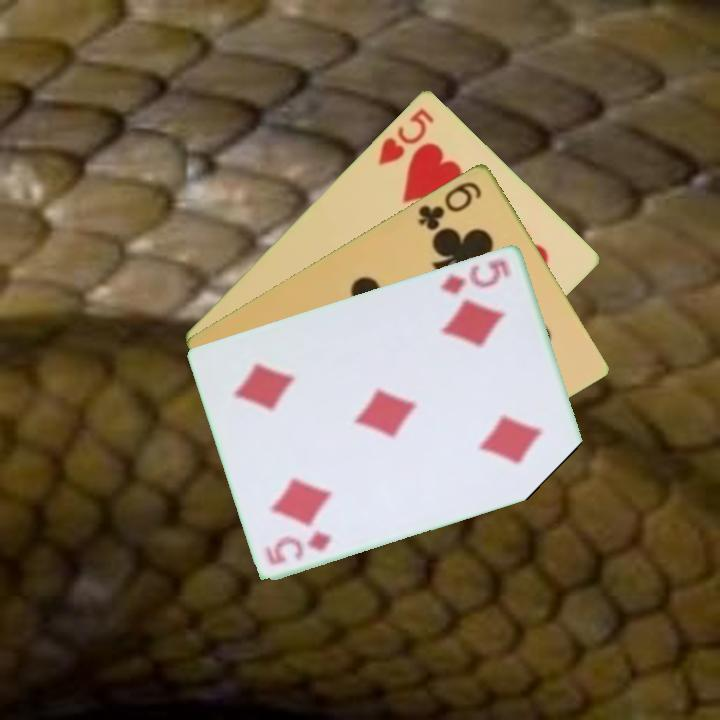5d: (437, 254, 514, 296), (262, 526, 334, 568)
5h: (374, 103, 437, 168)
6c: (414, 177, 485, 233)
